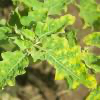Tomato leaf mosaic virus: (41, 37, 98, 89), (33, 13, 78, 39), (1, 46, 27, 89), (10, 34, 32, 52), (29, 47, 54, 60)
